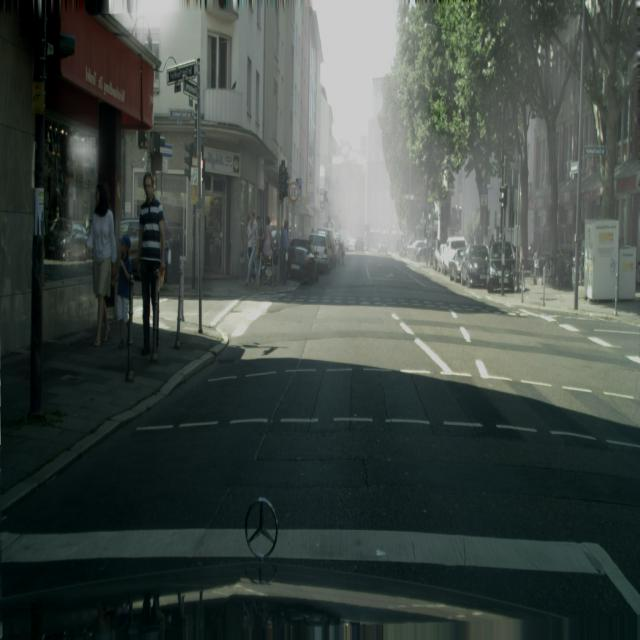person: (83, 184, 117, 348), (137, 171, 166, 359), (115, 234, 134, 351), (244, 209, 259, 286), (262, 214, 273, 281), (280, 219, 290, 285)
truck: (487, 241, 518, 294), (287, 239, 318, 284), (461, 244, 490, 288), (442, 236, 468, 278), (408, 239, 428, 261), (320, 229, 330, 268), (354, 235, 364, 251), (378, 238, 388, 254)
